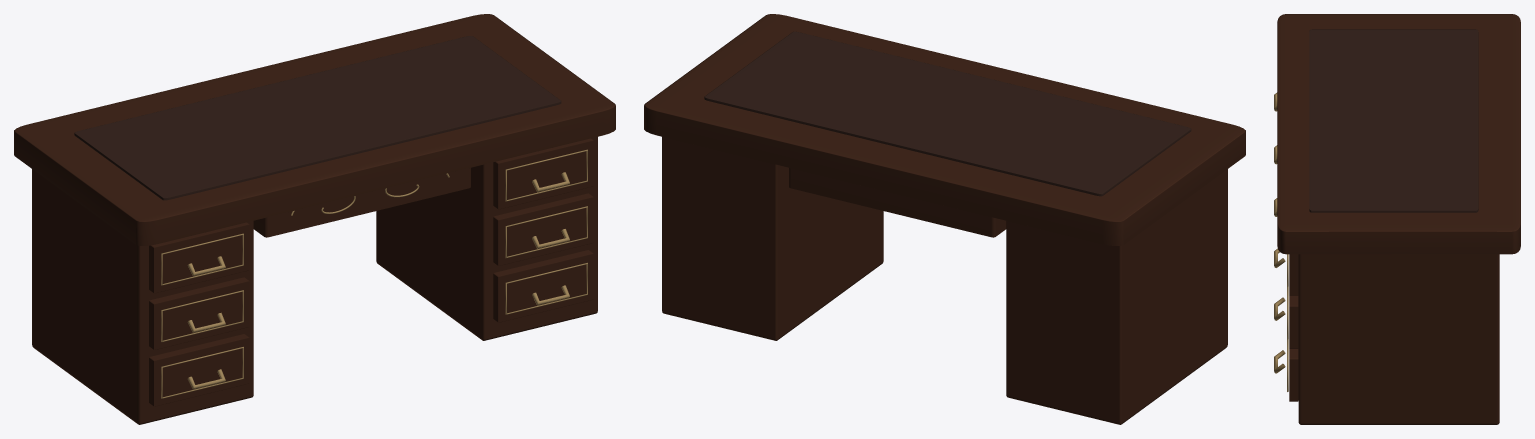
Rendered from Desk_Pedestal.fbx.
3 views of the same model, side by side, from view 1: azimuth 30°, elevation 25°; view 2: azimuth 150°, elevation 25°; view 3: azimuth 270°, elevation 25° (orthographic). The views are drawn at different scales.
Visible parts, largest first — view 1: Desk top.001, Leather writing inset.001, Drawer pedestal.002, Drawer pedestal.003, Raised wooden panel.021, Raised wooden panel.020, Raised wooden panel.024, Raised wooden panel.023, Raised wooden panel.022, Raised wooden panel.025, Centre drawer.001; view 2: Desk top.001, Drawer pedestal.002, Leather writing inset.001, Drawer pedestal.003, Centre drawer.001; view 3: Drawer pedestal.003, Leather writing inset.001, Desk top.001, Raised wooden panel.023, Raised wooden panel.024, Raised wooden panel.025.
Part boxes in pixels (bbox=[...]): Desk top.001: bbox=[14, 14, 615, 245]; Leather writing inset.001: bbox=[74, 36, 561, 200]; Drawer pedestal.002: bbox=[32, 169, 253, 424]; Drawer pedestal.003: bbox=[376, 137, 597, 340]; Raised wooden panel.021: bbox=[149, 277, 249, 349]; Raised wooden panel.020: bbox=[149, 334, 249, 406]; Raised wooden panel.024: bbox=[493, 193, 593, 265]; Raised wooden panel.023: bbox=[493, 250, 593, 322]; Raised wooden panel.022: bbox=[149, 222, 249, 293]; Raised wooden panel.025: bbox=[493, 138, 593, 209]; Centre drawer.001: bbox=[253, 168, 470, 237]; Desk top.001: bbox=[644, 14, 1245, 245]; Drawer pedestal.002: bbox=[1006, 169, 1227, 424]; Leather writing inset.001: bbox=[704, 31, 1191, 196]; Drawer pedestal.003: bbox=[662, 137, 883, 340]; Centre drawer.001: bbox=[789, 168, 1006, 237]; Drawer pedestal.003: bbox=[1298, 254, 1499, 424]; Leather writing inset.001: bbox=[1309, 29, 1478, 212]; Desk top.001: bbox=[1277, 14, 1520, 254]; Raised wooden panel.023: bbox=[1289, 348, 1298, 401]; Raised wooden panel.024: bbox=[1289, 295, 1298, 348]; Raised wooden panel.025: bbox=[1289, 254, 1298, 295].
Bounding box in the file's own units: 1.95 × 0.839 × 0.9325.
